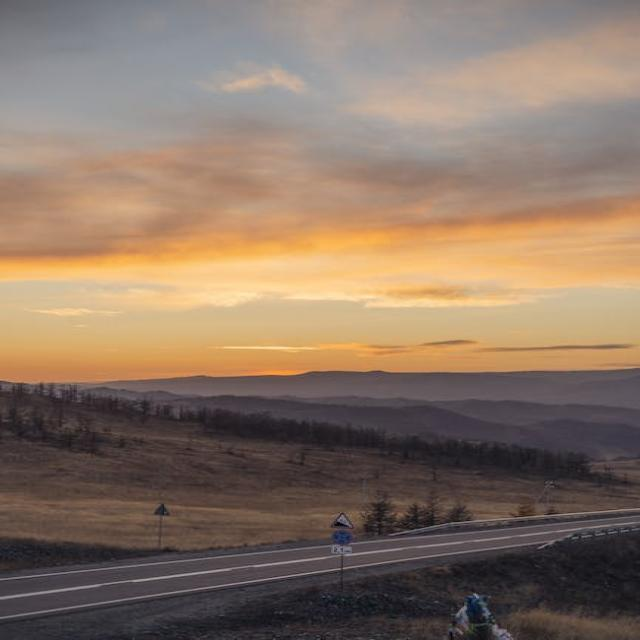no stopping: (328, 530, 355, 545)
